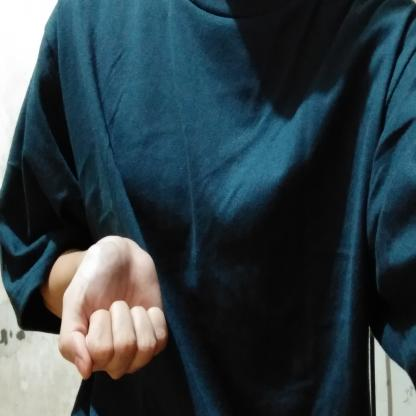where: (31, 230, 181, 392)
